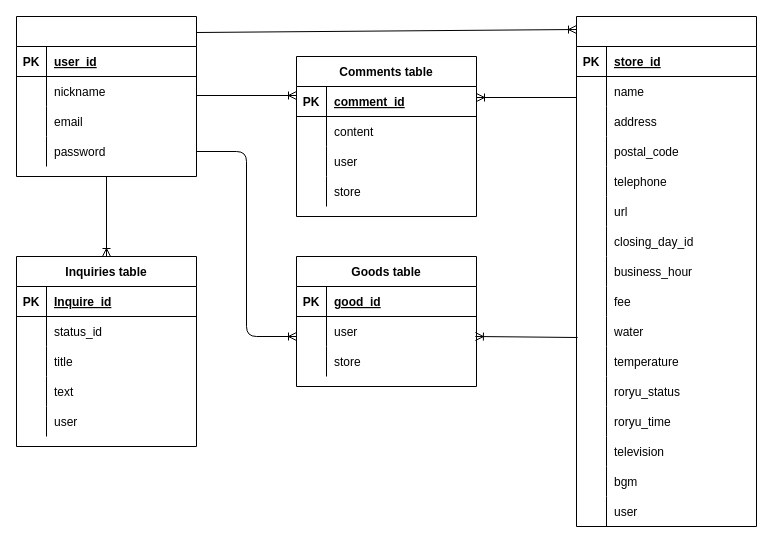
The diagram is 773 pixels wide and 543 high, and some of its shapes have lost their labels. The shapes that lost their labels are listed below. From the top down, each one's box as (x1, y1, x2, y2) in pixels, then its label:
(16, 16, 196, 176): Users table
(576, 16, 756, 526): Stores table
